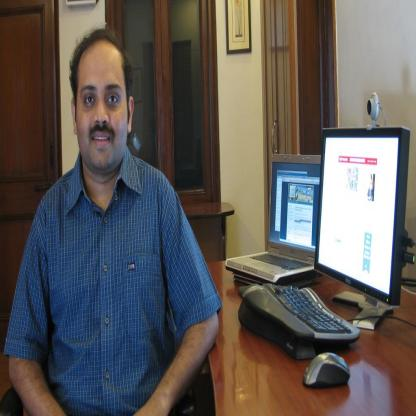board: (226, 152, 320, 286)
